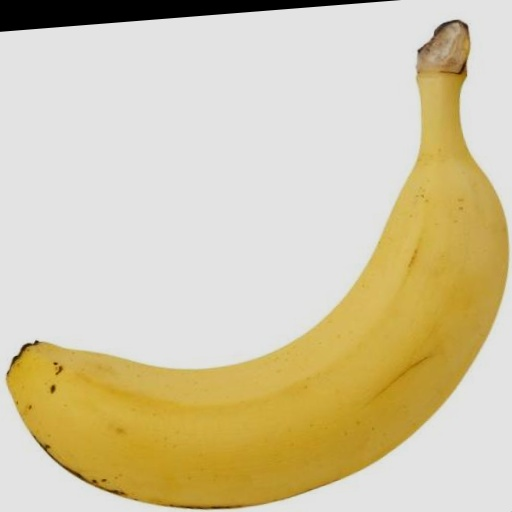fruit: (7, 21, 508, 507)
